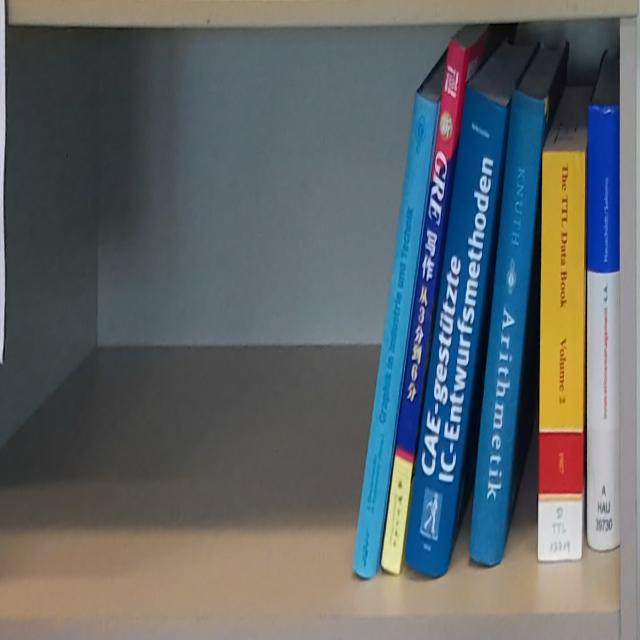Book Spine: (404, 86, 506, 580), (380, 37, 465, 574), (353, 92, 437, 579), (470, 88, 545, 565), (538, 149, 586, 562), (587, 103, 621, 555)
